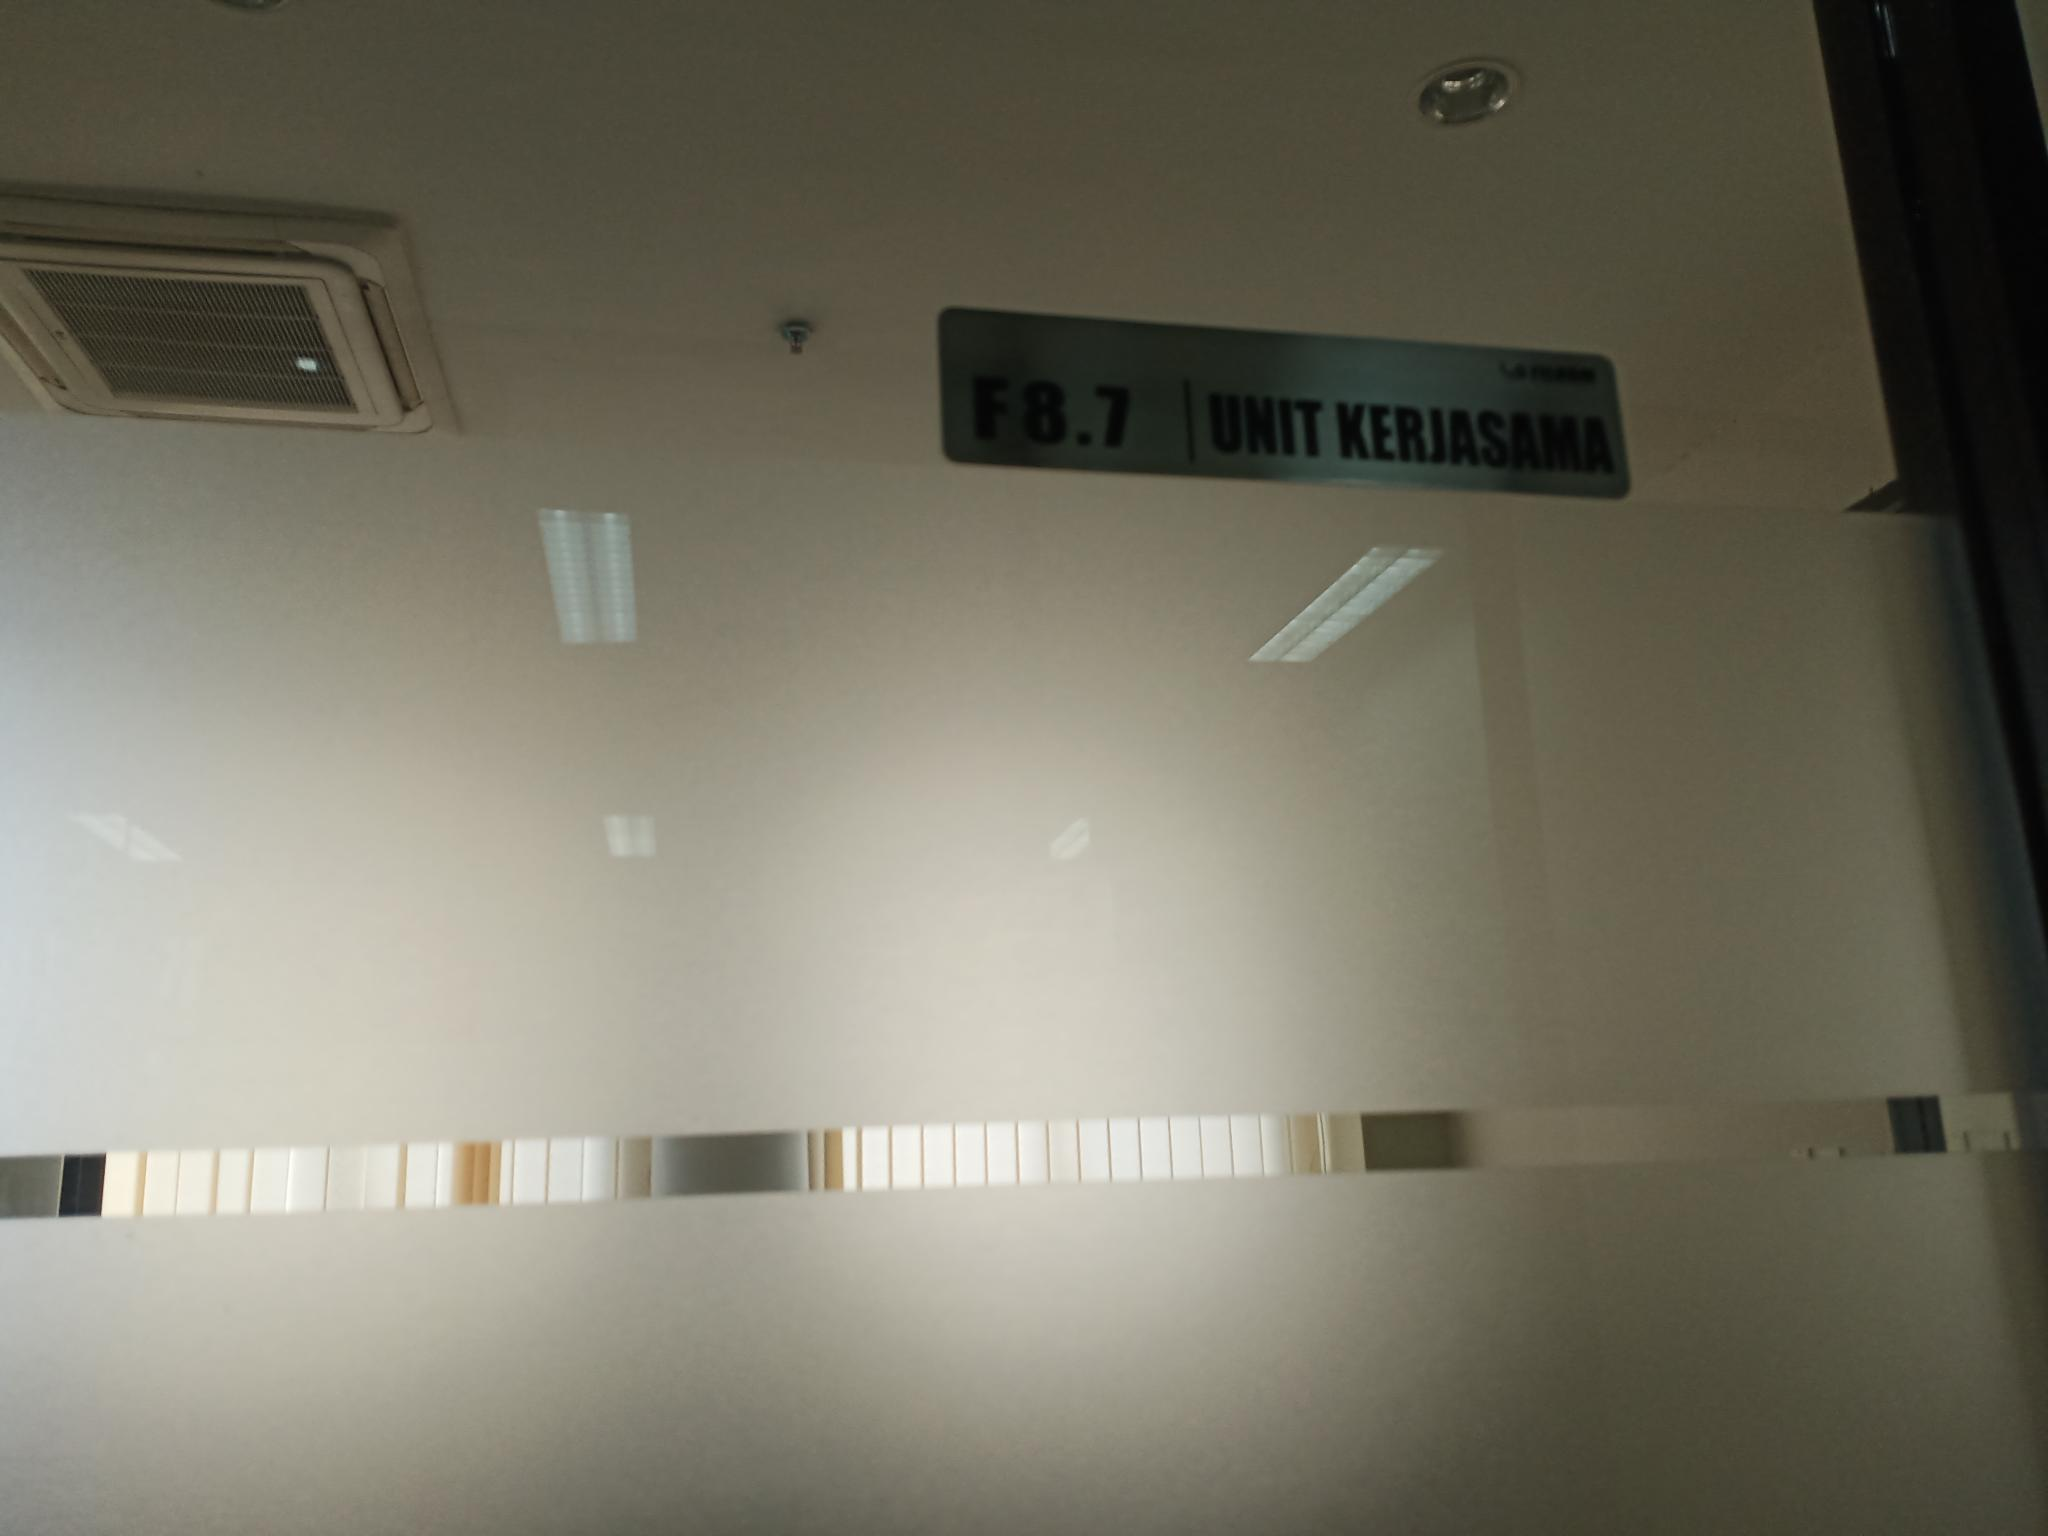plate: (937, 298, 1635, 502)
